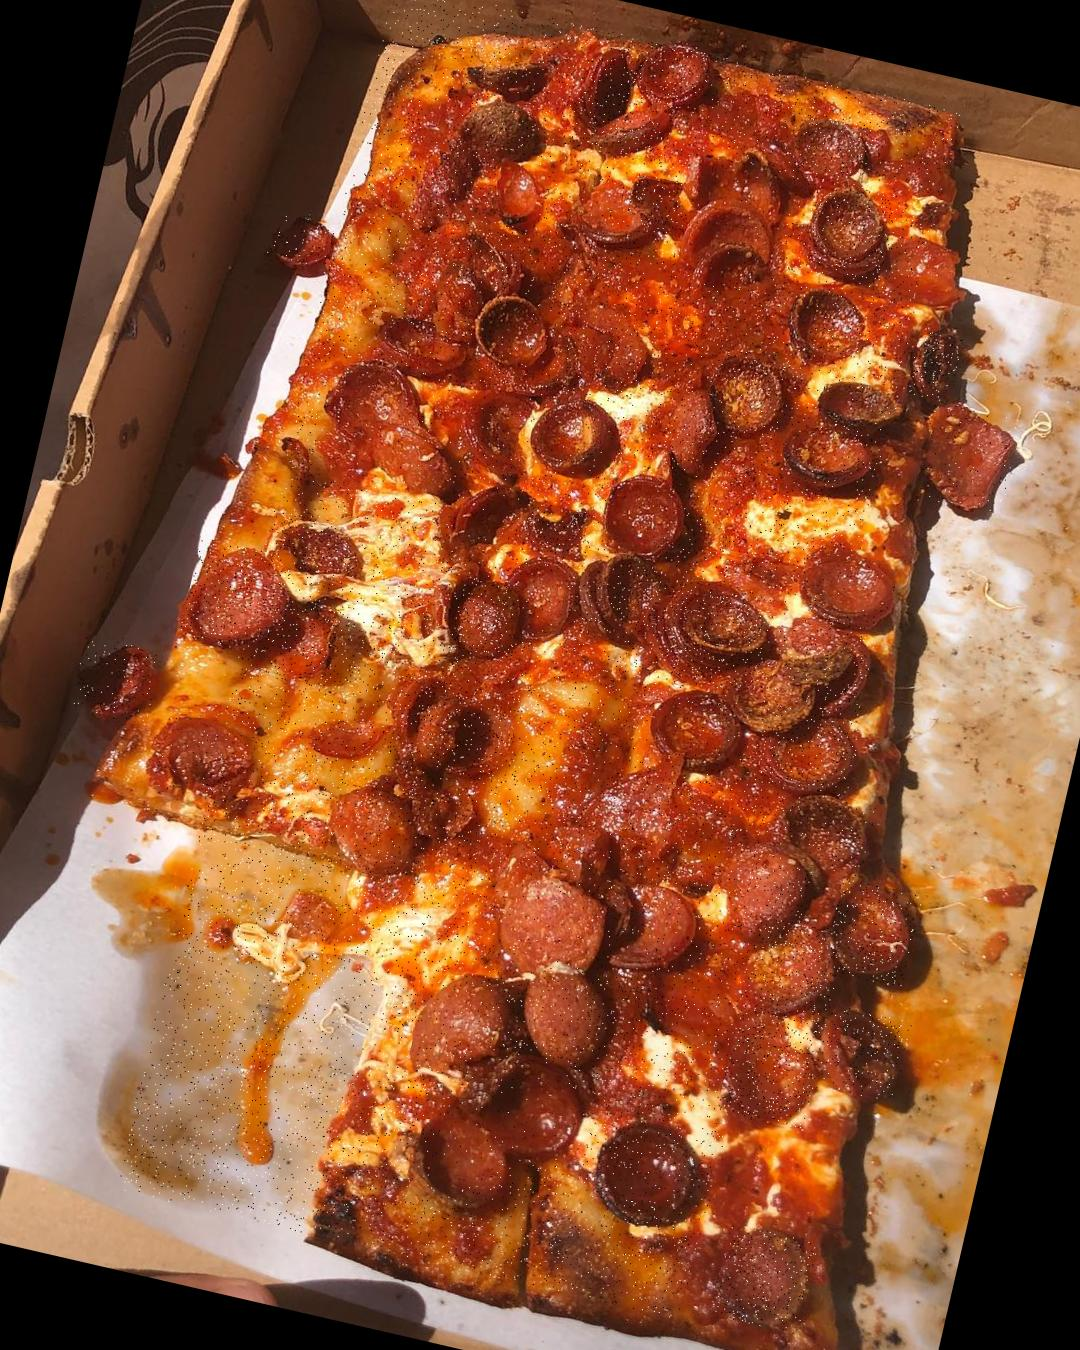Pepperoni: (309, 355, 476, 507), (642, 571, 780, 698), (454, 1048, 592, 1169), (385, 670, 527, 786), (586, 1116, 713, 1238), (407, 963, 525, 1091), (562, 43, 685, 164), (494, 867, 618, 983), (180, 539, 295, 659), (716, 1009, 828, 1133), (508, 966, 629, 1078), (911, 400, 1023, 518), (738, 912, 850, 1029), (407, 1113, 519, 1220), (711, 1224, 819, 1335), (676, 191, 786, 293), (823, 878, 924, 990), (152, 712, 264, 810), (565, 544, 668, 649), (602, 879, 702, 985), (641, 681, 749, 777), (323, 782, 422, 885), (773, 787, 878, 883), (756, 705, 864, 799), (814, 1004, 912, 1106), (802, 183, 899, 287), (595, 467, 693, 565), (722, 846, 816, 949), (525, 390, 626, 484), (719, 652, 820, 742), (680, 154, 793, 234), (795, 550, 899, 636), (69, 634, 163, 730), (777, 420, 879, 500), (264, 514, 374, 588), (702, 353, 791, 443), (570, 174, 666, 258), (501, 549, 581, 648), (467, 287, 557, 374), (449, 476, 534, 566), (458, 386, 539, 479), (782, 287, 871, 369), (371, 313, 473, 384), (450, 575, 528, 665), (270, 598, 347, 689), (810, 627, 878, 724), (790, 115, 874, 192), (660, 384, 726, 479), (634, 40, 712, 112), (818, 378, 903, 434), (625, 174, 694, 242), (488, 156, 548, 231), (267, 213, 337, 276), (521, 500, 592, 562), (907, 330, 964, 403)
Pizza: (115, 0, 961, 1320)
